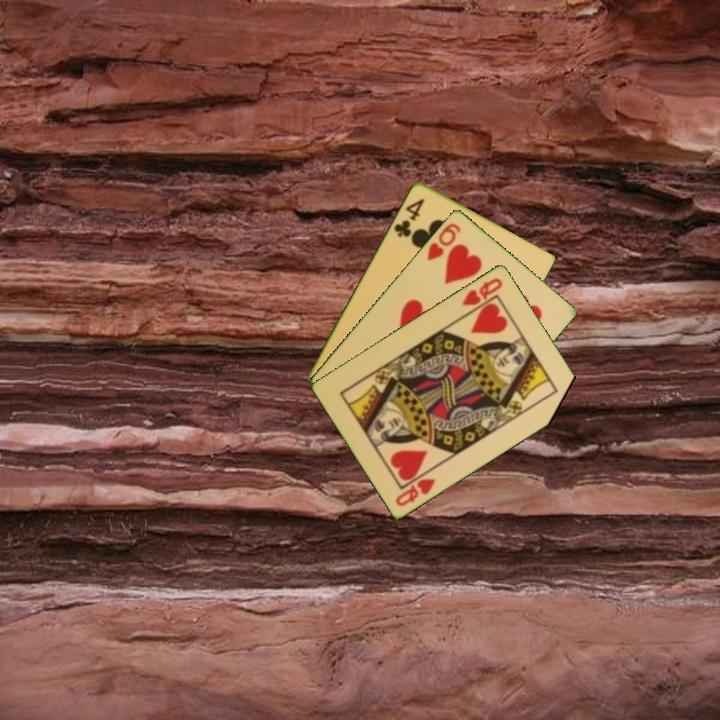4c: (390, 194, 427, 240)
6h: (423, 219, 464, 263)
Qh: (392, 474, 439, 509), (459, 274, 505, 308)
